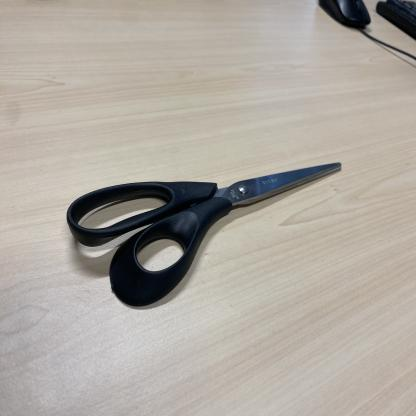scissors: (67, 157, 342, 309)
